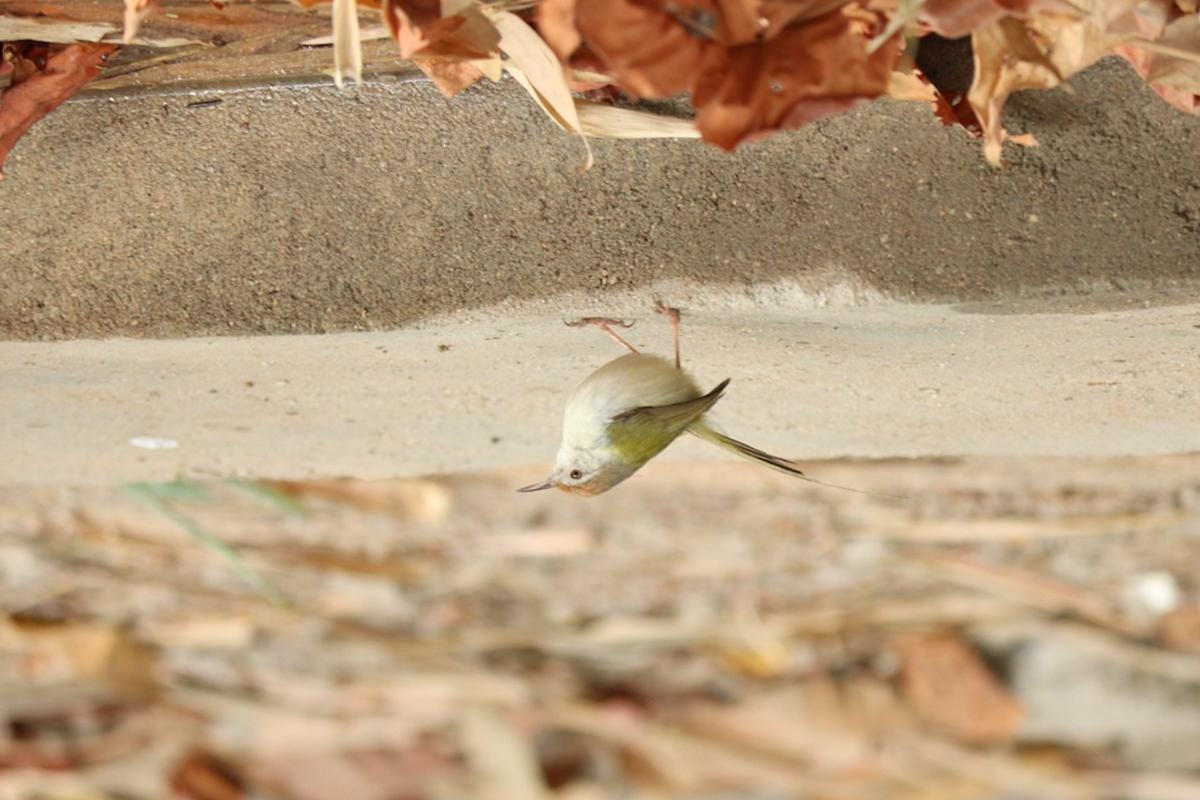tailorbird: (507, 280, 834, 524)
